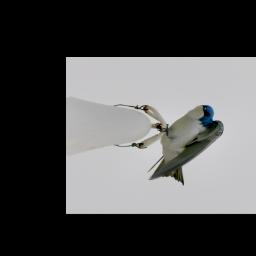Swallow: (144, 104, 225, 187)
